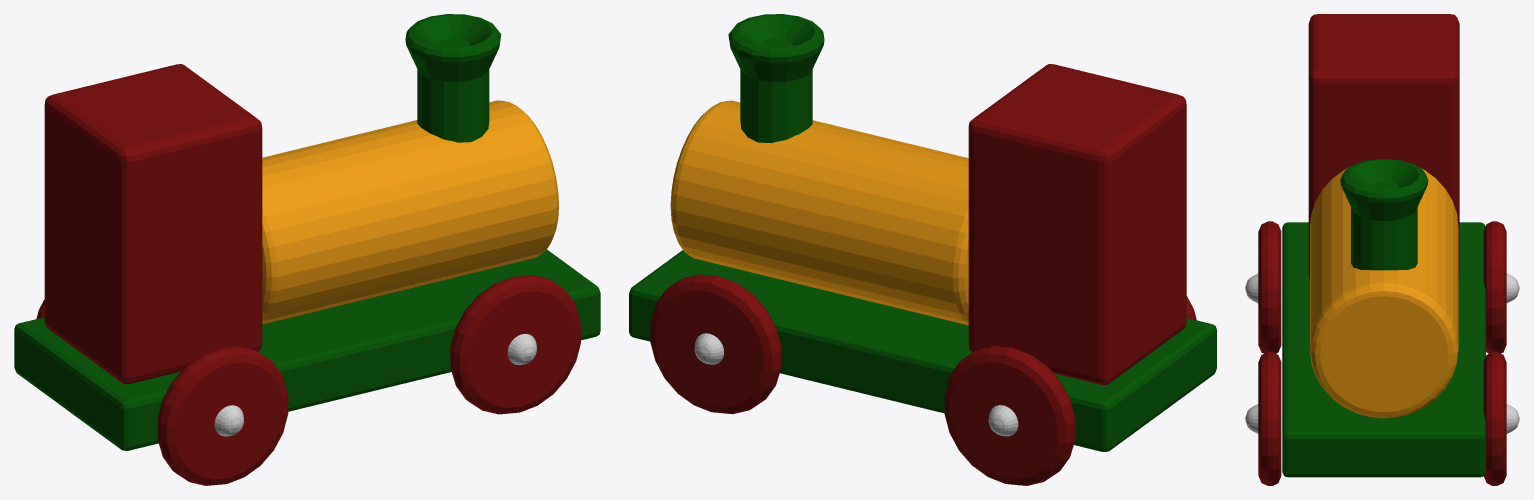
File: train.obj
The picture shows the model from 3 angles, left to right: view 1: azimuth 30°, elevation 25°; view 2: azimuth 150°, elevation 25°; view 3: azimuth 270°, elevation 25°; orthographic projection. The views are drawn at different scales.
Visible parts, largest first — view 1: _5, _2, object 1, _1, _4, _3; view 2: _5, _2, object 1, _1, _4, _3; view 3: _2, object 1, _5, _1, _4, _3.
Part boxes in pixels (x1,y1,x2,y2): _5: [44, 64, 262, 384]; _2: [262, 100, 558, 324]; object 1: [14, 249, 600, 450]; _1: [36, 275, 580, 485]; _4: [405, 14, 501, 142]; _3: [214, 334, 536, 436]; _5: [968, 64, 1186, 385]; _2: [670, 100, 968, 325]; object 1: [629, 250, 1216, 451]; _1: [650, 274, 1196, 485]; _4: [728, 14, 824, 143]; _3: [694, 333, 1018, 436]; _2: [1310, 167, 1458, 418]; object 1: [1282, 222, 1485, 477]; _5: [1308, 14, 1459, 279]; _1: [1258, 221, 1506, 485]; _4: [1340, 158, 1428, 270]; _3: [1245, 273, 1519, 433].
Bounding box in the file's own units: 2 × 1.33 × 1.08.
